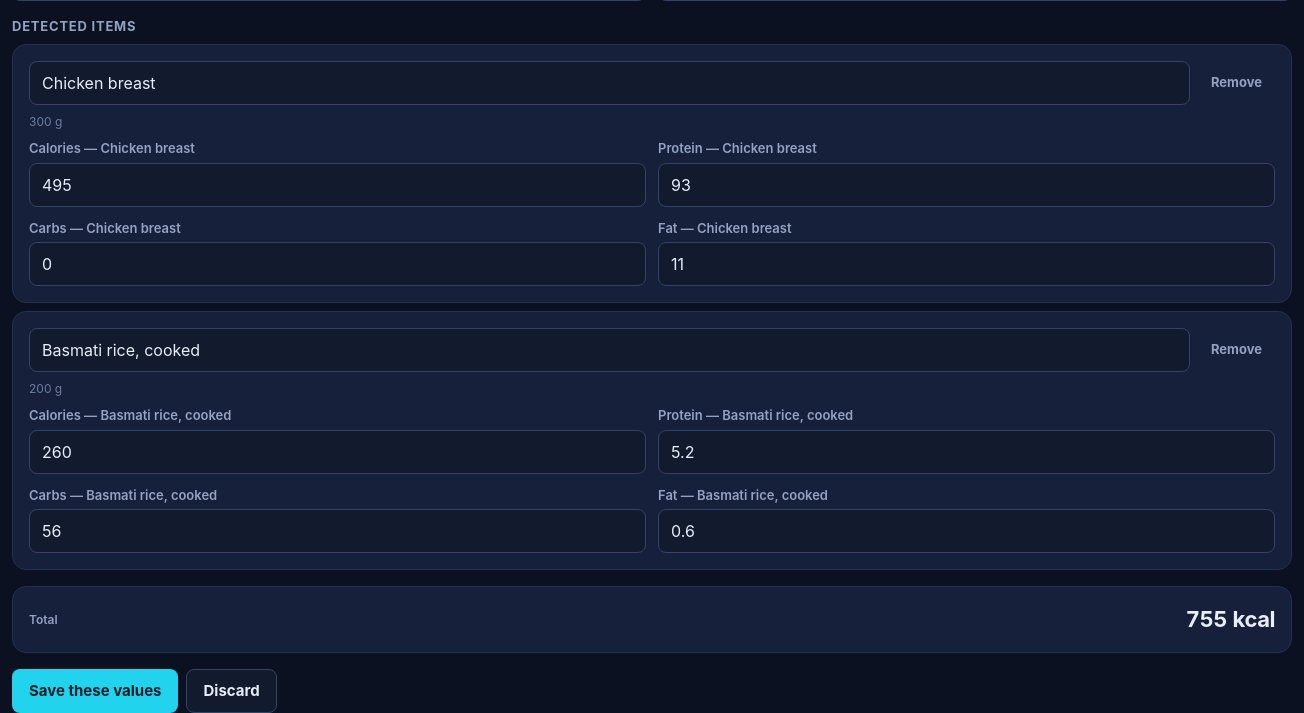
AiReviewForm › recalculates the total as the user corrects an item
(page scrolled)
Check: the text "755 kcal" is shown, box [1186,603,1275,636]
Replace the text in the number field labelled "Calories — Basmati rice, cooked" with "195": (338, 452) [29,430,646,474]
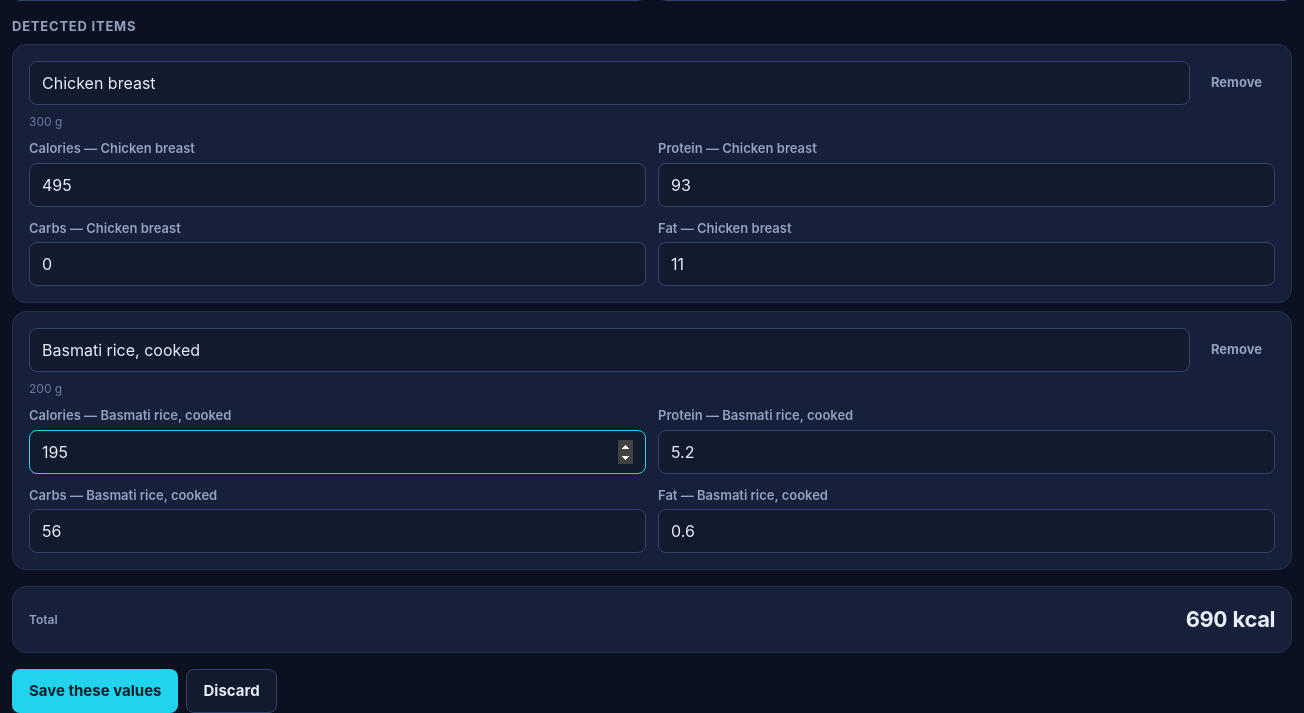
Check: the text "690 kcal" is shown, box [1186,603,1275,636]
